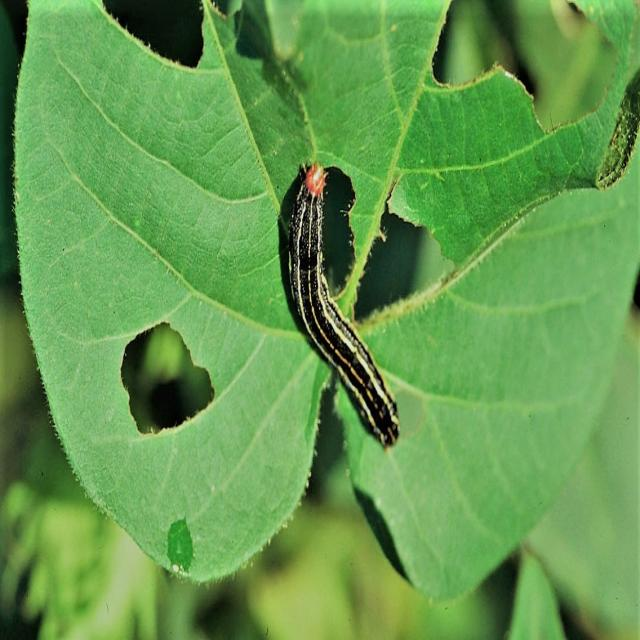armyworm: (287, 160, 400, 450)
